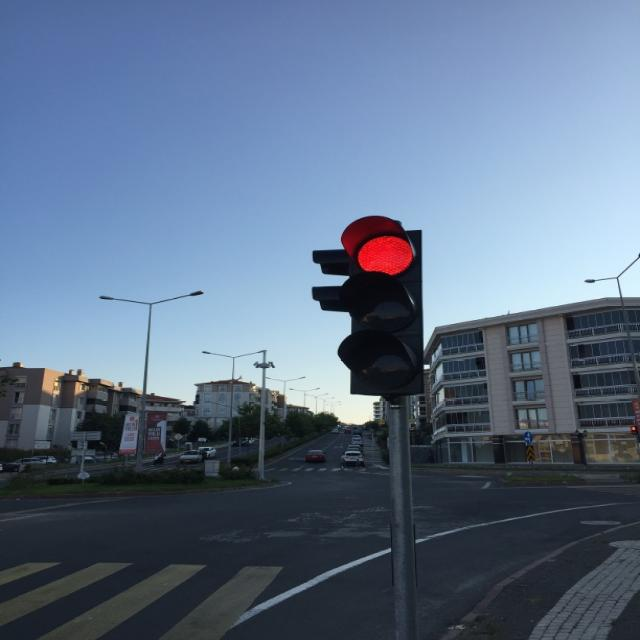kirmizi: (343, 216, 425, 394)
